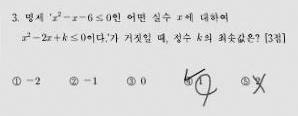choice: (182, 70, 194, 86)
not-choice: (10, 76, 22, 87), (68, 75, 79, 87), (125, 75, 136, 86), (240, 76, 250, 86)
